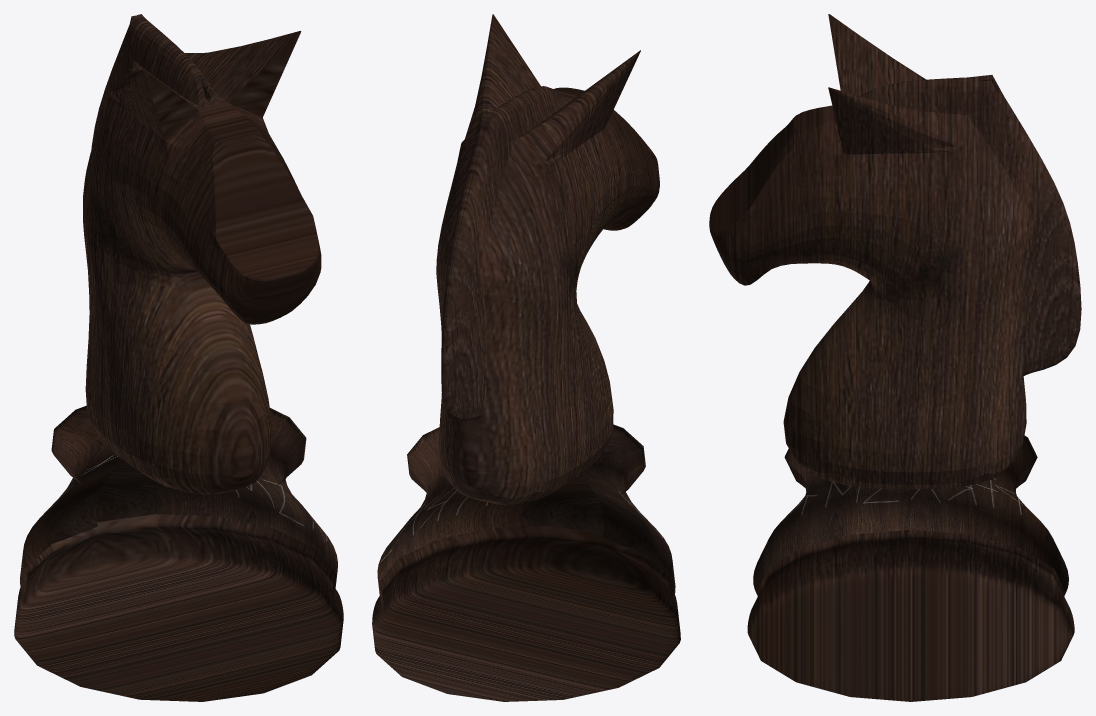
File: Caballo2.fbx
3 views of the same model, side by side, from view 1: azimuth 30°, elevation 25°; view 2: azimuth 150°, elevation 25°; view 3: azimuth 270°, elevation 25° (orthographic). The views are drawn at different scales.
Parts seen in each view (by area): view 1: Caballo; view 2: Caballo; view 3: Caballo.
Part boxes in pixels (x1=…): Caballo: x1=14, y1=14, x2=343, y2=701; Caballo: x1=372, y1=14, x2=680, y2=701; Caballo: x1=709, y1=14, x2=1081, y2=701.
Bounding box in the file's own units: 37.3 × 76.85 × 44.06.
